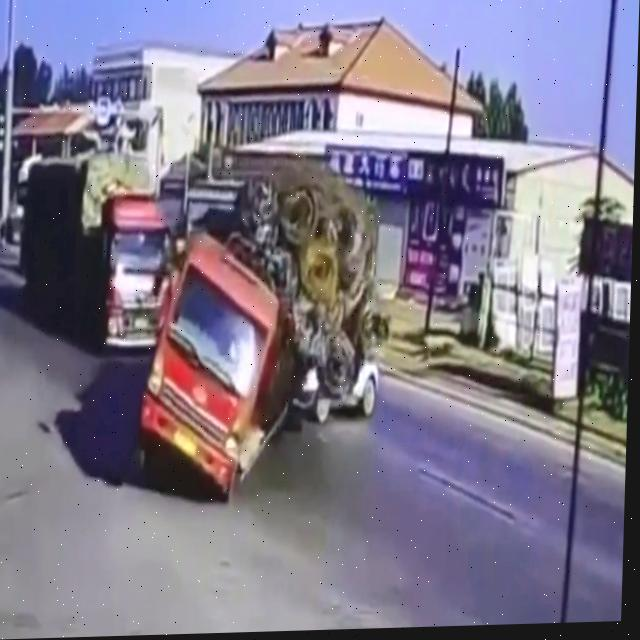multiple_accident: (104, 163, 421, 509)
